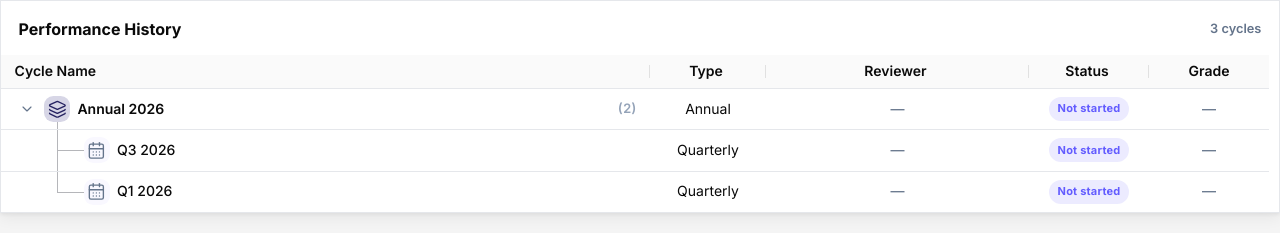
it: EmployeeProfilePerformanceTab › nests linked quarters under the annual with expand/collapse
Check: the link "Q1 2026" is shown, box [84,179,172,205]
Check: the link "Q3 2026" is shown, box [84,137,175,163]
Click the button named "Collapse Annual 2026" at (27, 109), box [15,97,39,121]
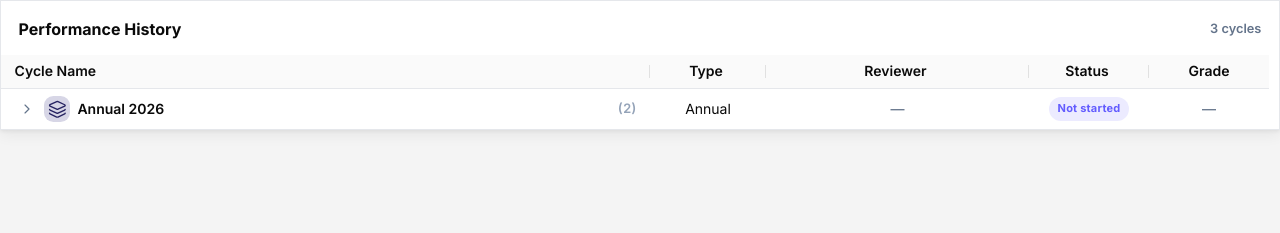
Check: the button named "Expand Annual 2026" is collapsed, box [15,97,39,121]
Check: the link "Q1 2026" is gone
Check: the link "Q3 2026" is gone
